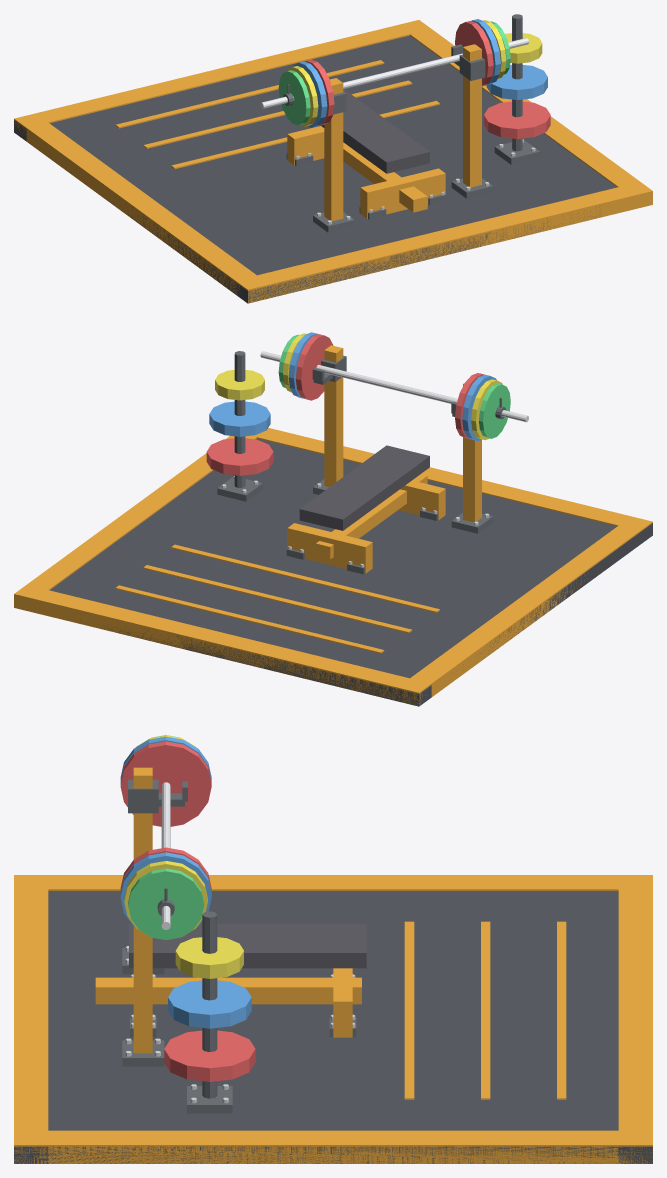
Rendered from Table3_BenchPress.fbx.
3 renders of one model, top to bottom at view 1: azimuth 30°, elevation 25°; view 2: azimuth 150°, elevation 25°; view 3: azimuth 270°, elevation 25°, orthographic. The views are drawn at different scales.
Visible parts, largest first — view 1: Table3, Table3_RimNS_-1, Table3_RimEW_-1, Table3_RimNS_1, Cube.050, Table3_RimEW_1, Cube.038, Cube.033, Cube.044, Cylinder.112, Cube.043, Cylinder.113 (+17 smaller); view 2: Table3, Table3_RimNS_1, Table3_RimEW_-1, Cube.050, Table3_RimNS_-1, Table3_RimEW_1, Cube.047, Cube.038, Cylinder.112, Cylinder.113, Cube.043, Cube.033 (+14 smaller); view 3: Table3, Table3_RimEW_1, Table3_RimNS_-1, Table3_RimNS_1, Table3_RimEW_-1, Cube.050, Cube.043, Cylinder.095, Cylinder.104, Cylinder.112, Cylinder.113, Cube.038 (+13 smaller).
Boxes of the visible parts, box(x1,y1,x2,y2) form: Table3: box(14, 35, 616, 303); Table3_RimNS_-1: box(235, 182, 652, 303); Table3_RimEW_-1: box(26, 122, 256, 293); Table3_RimNS_1: box(14, 20, 430, 139); Cube.050: box(321, 89, 429, 173); Table3_RimEW_1: box(410, 29, 639, 187); Cube.038: box(463, 44, 481, 187); Cube.033: box(324, 78, 343, 221); Cube.044: box(360, 168, 445, 218); Cylinder.112: box(484, 101, 550, 139); Cube.043: box(343, 142, 427, 212); Cylinder.113: box(486, 65, 547, 99); Table3: box(50, 438, 652, 706); Table3_RimNS_1: box(14, 585, 431, 705); Table3_RimEW_-1: box(410, 525, 640, 696); Cube.050: box(299, 445, 429, 530); Table3_RimNS_-1: box(251, 428, 652, 531); Table3_RimEW_1: box(27, 435, 256, 590); Cube.047: box(287, 523, 372, 573); Cube.038: box(324, 345, 343, 486); Cylinder.112: box(206, 438, 273, 475); Cylinder.113: box(209, 401, 270, 436); Cube.043: box(315, 474, 427, 559); Cube.033: box(463, 383, 481, 522); Table3: box(14, 891, 652, 1163); Table3_RimEW_1: box(48, 1130, 618, 1163); Table3_RimNS_-1: box(14, 875, 48, 1163); Table3_RimNS_1: box(618, 875, 652, 1163); Table3_RimEW_-1: box(48, 875, 618, 890); Cube.050: box(129, 924, 366, 968); Cube.043: box(95, 977, 361, 1004); Cylinder.095: box(120, 741, 211, 826); Cylinder.104: box(128, 868, 204, 939); Cylinder.112: box(164, 1030, 255, 1081); Cylinder.113: box(168, 980, 251, 1028); Cube.038: box(133, 927, 152, 1053).
Size of the model in its own units: 3.36 by 3.36 by 1.35.
